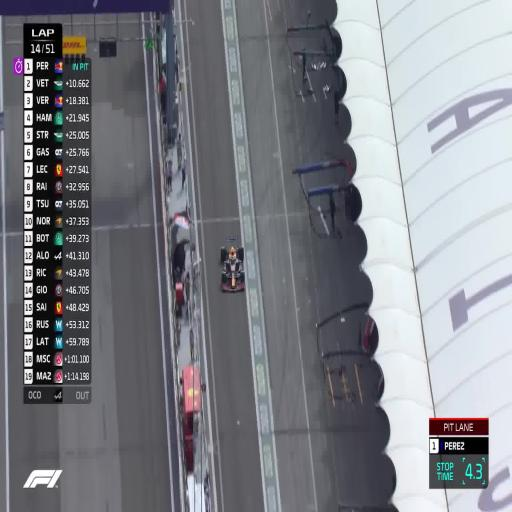f1_car: (220, 237, 244, 291)
